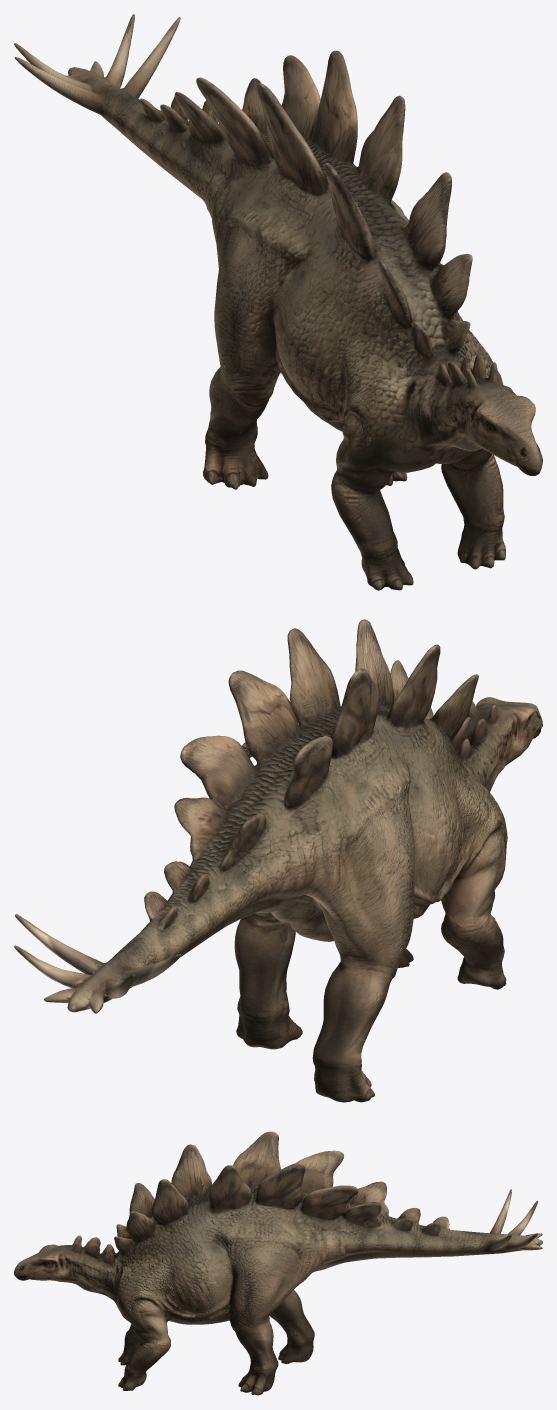
Rendered from stegosaurus.glb.
The picture shows the model from 3 angles, top to bottom: view 1: azimuth 30°, elevation 25°; view 2: azimuth 150°, elevation 25°; view 3: azimuth 270°, elevation 25°; orthographic projection. The views are drawn at different scales.
Visible parts, largest first — view 1: Mesh1.0; view 2: Mesh1.0; view 3: Mesh1.0.
Part boxes in pixels (box(x1,y1,x2,y2)): Mesh1.0: box(14, 14, 542, 590); Mesh1.0: box(14, 619, 542, 1102); Mesh1.0: box(14, 1131, 542, 1395).
Bounding box in the file's own units: 5.52 × 12 × 25.04.
Materials: 1 (1 with a texture image).
